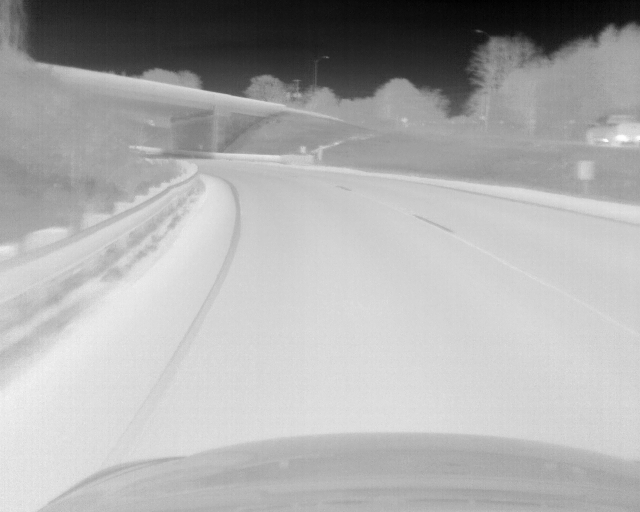car: (585, 111, 640, 146)
